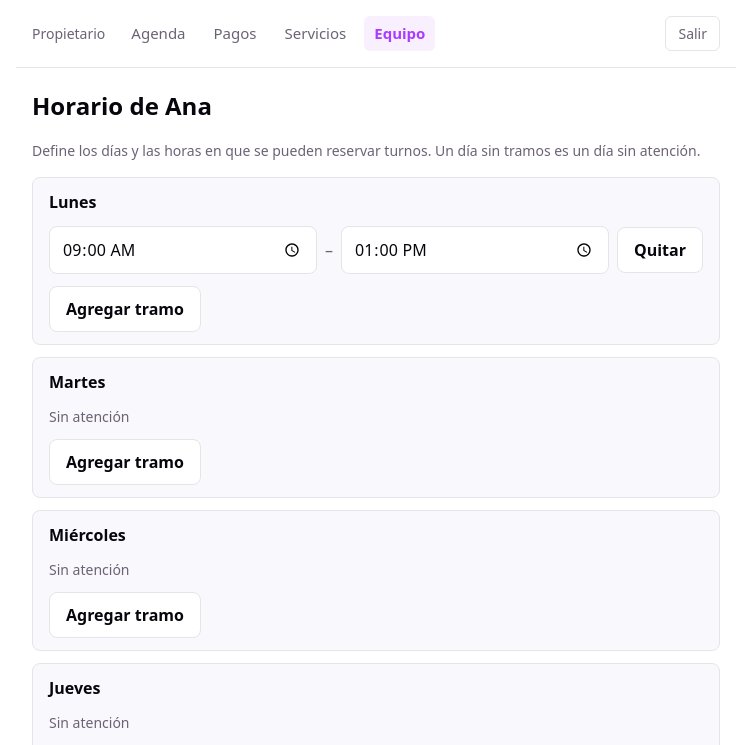
RF-17: la validación local bloquea el envío y marca la fila
Replace the text in the time field named "Lunes · hasta" with "08:00" at (475, 250), box [341,226,609,274]
(page scrolled)
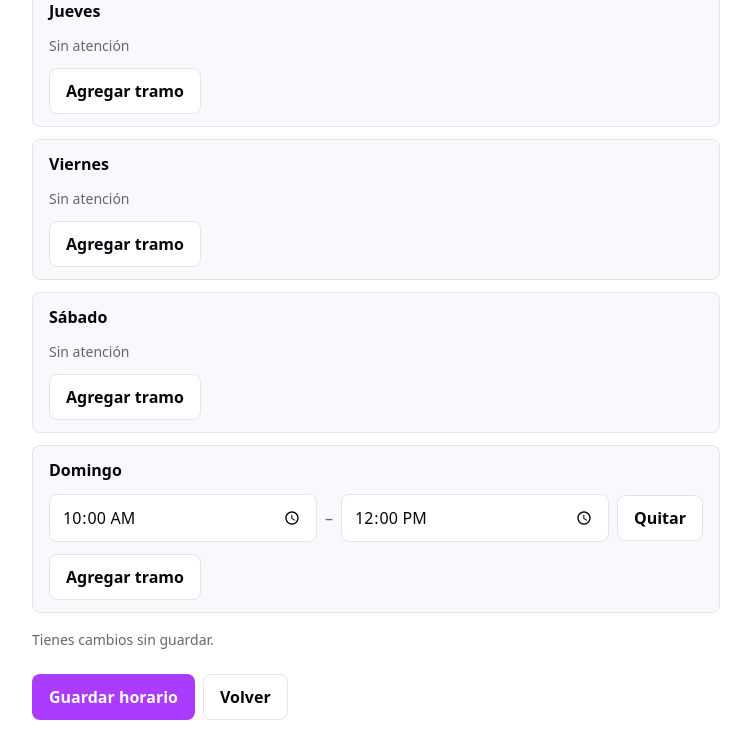
Click the button "Guardar horario" at (114, 697), box [32,674,195,720]
(page scrolled)
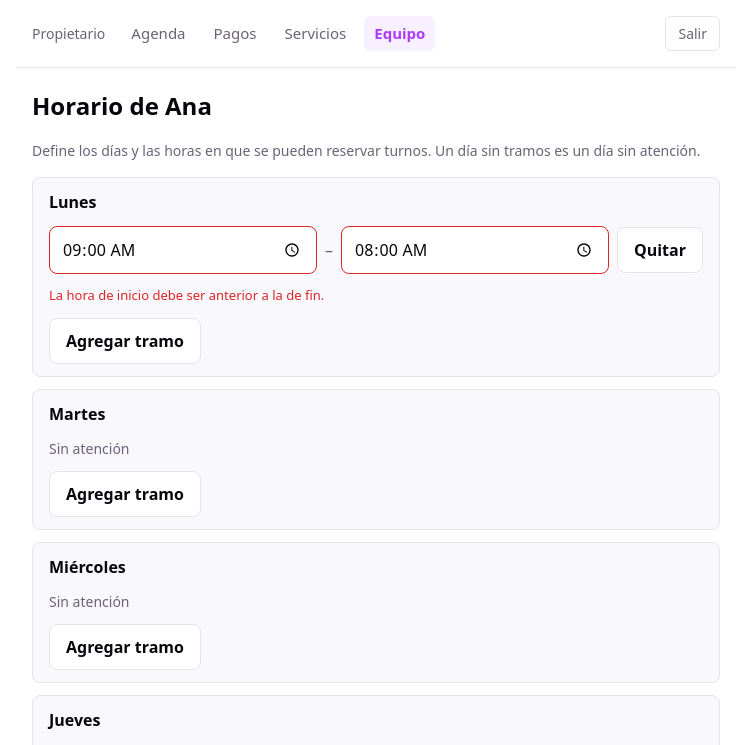
Result: the message shows "inicio debe ser anterior" at [49,286,324,304]
